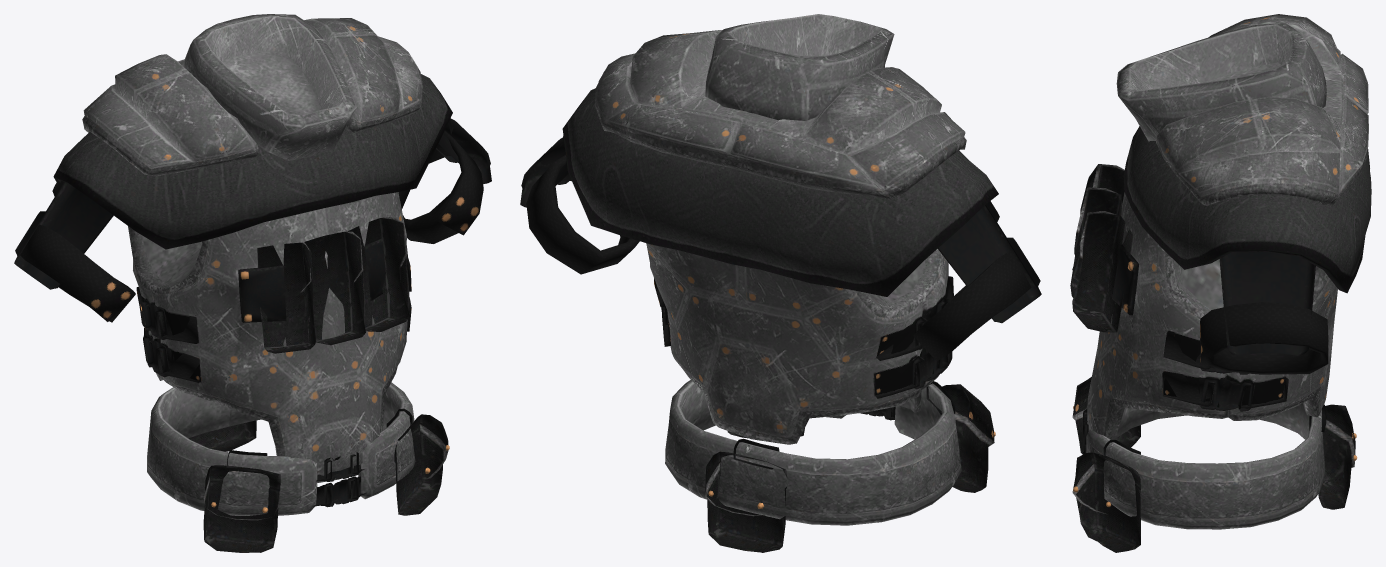
Rendered from SurvivorMale_Armor_Shogun_LOD0.glb.
The picture shows the model from 3 angles, left to right: view 1: azimuth 30°, elevation 25°; view 2: azimuth 150°, elevation 25°; view 3: azimuth 270°, elevation 25°; orthographic projection. The views are drawn at different scales.
Parts seen in each view (by area): view 1: Hoodie; view 2: Hoodie; view 3: Hoodie.
Part boxes in pixels (x1,y1,x2,y2): Hoodie: (14,14,491,552); Hoodie: (520,14,1041,552); Hoodie: (1070,14,1371,552).
Bounding box in the file's own units: 0.7613 × 0.6956 × 0.4183.
Materials: 1 (1 with a texture image).
